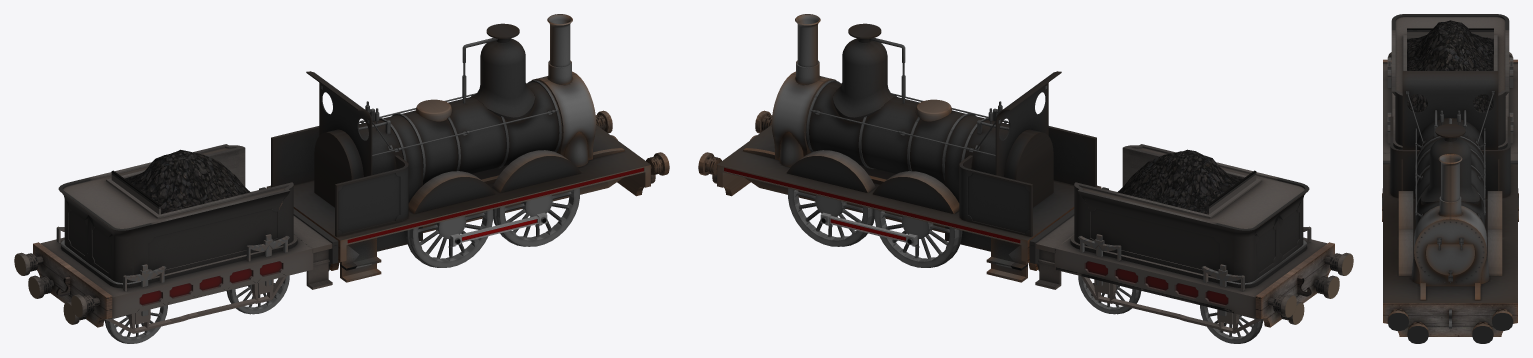
Rendered from locomotora_1840.glb.
3 views of the same model, side by side, from view 1: azimuth 30°, elevation 25°; view 2: azimuth 150°, elevation 25°; view 3: azimuth 270°, elevation 25° (orthographic). The views are drawn at different scales.
Parts seen in each view (by area): view 1: Cube.005, Cylinder.002, Cylinder.001, Cylinder.003, Cube, Cylinder.004, Cylinder.000; view 2: Cube.005, Cylinder.002, Cylinder.001, Cylinder.003, Cube, Cylinder.004, Cylinder.000; view 3: Cube.005, Cylinder.002.
Boxes of the visible parts, <box> form: Cube.005: <box>266,14,669,282</box>; Cylinder.002: <box>14,144,338,333</box>; Cylinder.001: <box>405,209,493,267</box>; Cylinder.003: <box>493,188,579,246</box>; Cube: <box>450,212,547,245</box>; Cylinder.004: <box>104,305,167,343</box>; Cylinder.000: <box>226,275,289,314</box>; Cube.005: <box>698,14,1101,282</box>; Cylinder.002: <box>1029,144,1353,333</box>; Cylinder.001: <box>874,209,962,267</box>; Cylinder.003: <box>788,188,874,246</box>; Cube: <box>820,212,917,245</box>; Cylinder.004: <box>1200,305,1263,343</box>; Cylinder.000: <box>1078,275,1141,314</box>; Cube.005: <box>1382,71,1518,343</box>; Cylinder.002: <box>1382,14,1518,192</box>.
Size of the model in its own units: 10.32 by 3.36 by 2.27.
2 materials, 2 textured.
